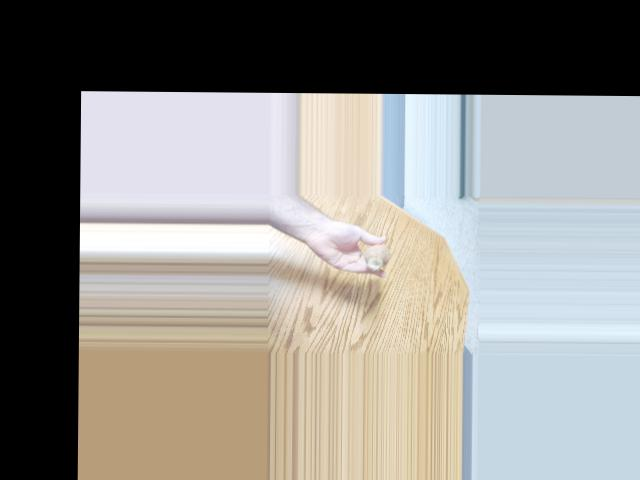sweet_potato: (364, 243, 392, 268)
